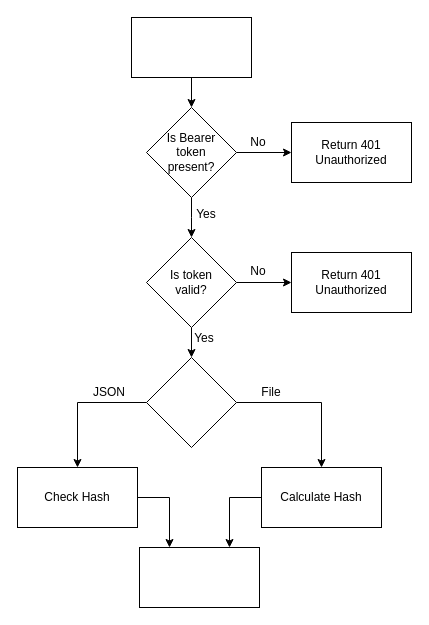
The diagram is 429 pixels wide and 625 high, and some of its shapes have lost their labels. The shapes that lost their labels are listed below. From the top down, each one's centre as x and y in pixels, then its label:
(x=191, y=47): Client sends request to /scan
(x=191, y=402): Is request JSON or File?
(x=199, y=577): Query VirusTotal and return response to client
